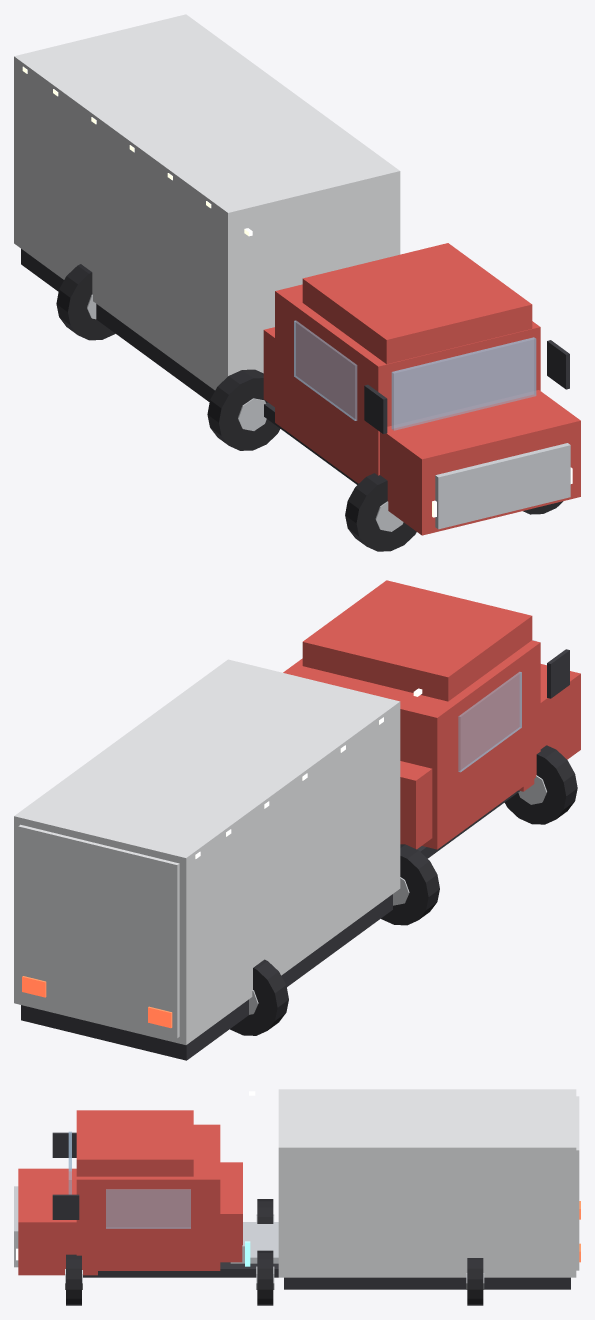
The model's file is car_truck.glb.
3 renders of one model, top to bottom at view 1: azimuth 30°, elevation 25°; view 2: azimuth 150°, elevation 25°; view 3: azimuth 270°, elevation 25°, orthographic. The views are drawn at different scales.
Visible parts, largest first — view 1: TruckRig.001; view 2: TruckRig.001; view 3: TruckRig.001.
Boxes of the visible parts, box(x1,y1,x2,y2) form: TruckRig.001: box(14, 14, 580, 551); TruckRig.001: box(14, 580, 580, 1060); TruckRig.001: box(14, 1089, 580, 1305).
Size of the model in its own units: 3.34 by 3.3 by 10.67.
